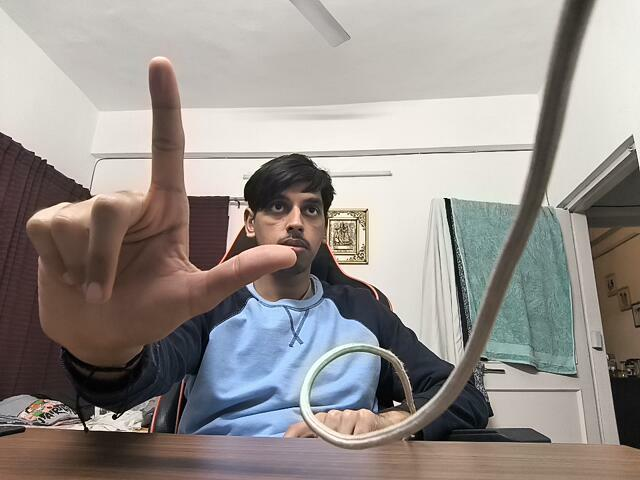UP: (14, 45, 305, 369)
